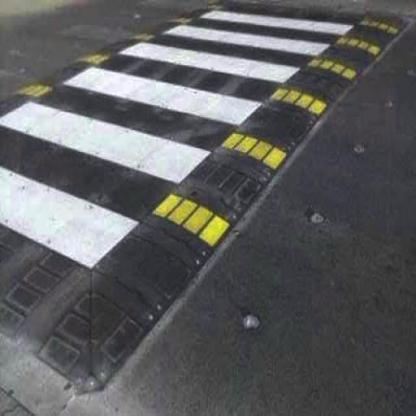crosswalk: (1, 47, 266, 189)
